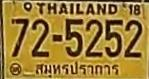2: (31, 18, 48, 56), (85, 19, 102, 56), (124, 20, 141, 56)
5: (104, 19, 122, 56), (65, 18, 82, 56)
7: (11, 18, 28, 56)
SPK: (32, 61, 120, 78)
